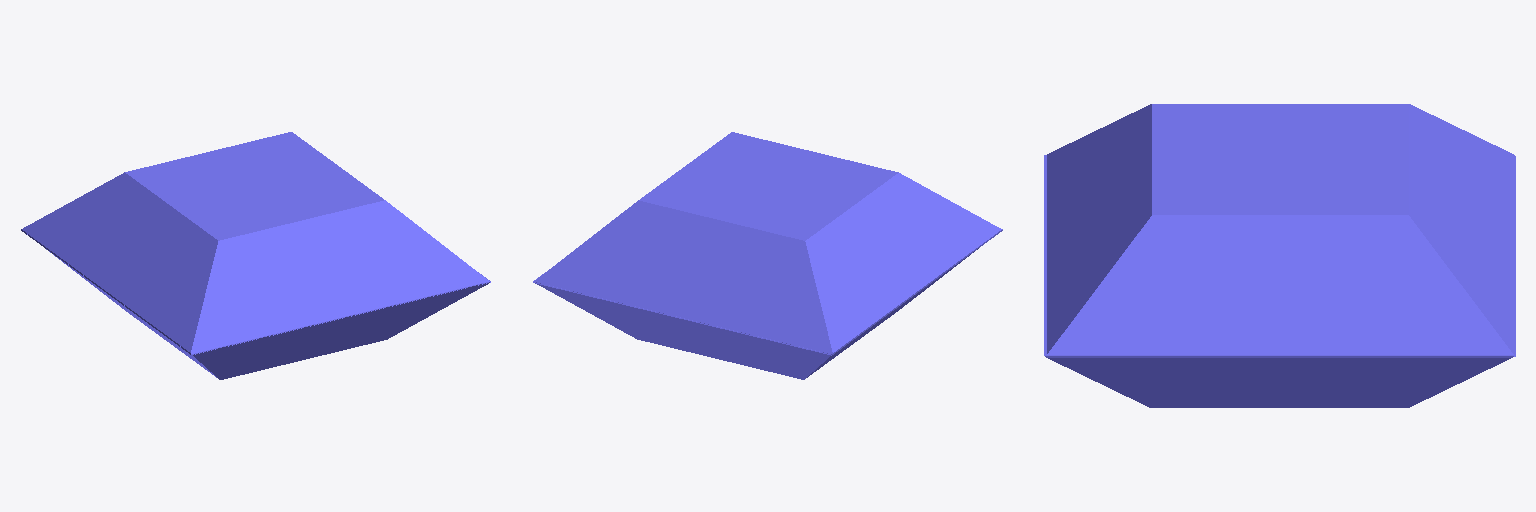
The robot description file, URDF, robot "stack_5.urdf":
<?xml version="1.0" ?>
<robot name="stack_5.urdf">
  <link name="baseLink">
    <contact>
      <lateral_friction value=".5"/>
    </contact>
    <inertial>
      <origin rpy="0 0 0" xyz="0 0 0"/>
       <mass value="1.5"/>
       <inertia ixx="1" ixy="0" ixz="0" iyy="1" iyz="0" izz="1"/>
    </inertial>
    <visual>
      <origin rpy="0 0 0" xyz="0 0 0"/>
      <geometry>
				<mesh filename="stack_5.obj" scale="1 1 1"/>
      </geometry>
       <material name="white">
        <color rgba="0.5 0.5 1 1"/>
      </material>
    </visual>
    <collision>
      <origin rpy="0 0 0" xyz="0 0 0"/>
      <geometry>
	 	<box size="0.05 0.05 0.05"/>
      </geometry>
    </collision>
  </link>
</robot>

--- What the picture shows (computed from the rendered views, not written in the file) ---
Views: 3 orthographic renders of the robot side by side, from view 1: azimuth 30°, elevation 25°; view 2: azimuth 150°, elevation 25°; view 3: azimuth 270°, elevation 25°.
Model stack_5.urdf with 1 links and 0 joints (none), rooted at baseLink, posed all joints at 0.
Links seen in each view (by area): view 1: baseLink; view 2: baseLink; view 3: baseLink.
Boxes of the visible links, <box> form: baseLink: <box>21,132,490,379</box>; baseLink: <box>533,132,1002,379</box>; baseLink: <box>1044,104,1515,407</box>.
Size in the robot's own frame: 1.99 by 1.97 by 0.8858 metres.
Meshes: 1 distinct files referenced, 1 mesh visuals loaded (1 OBJ).